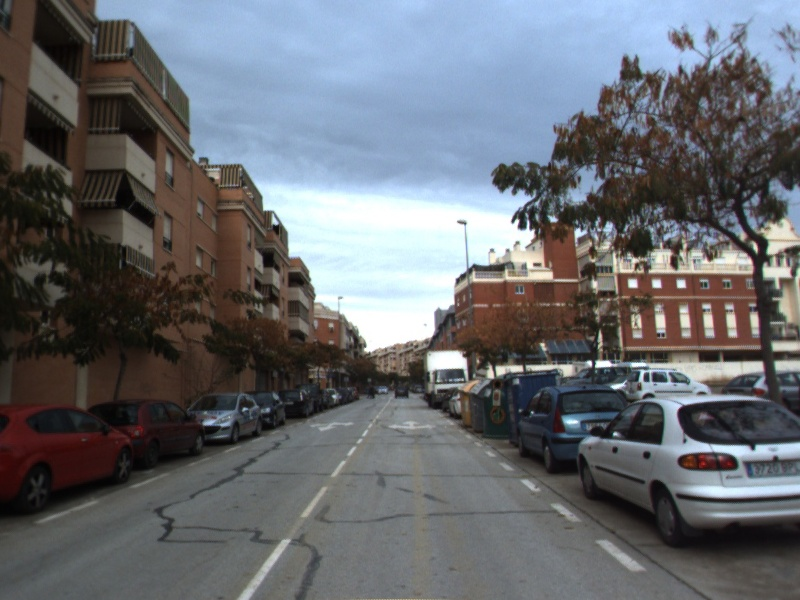STRAIGHT_LEFT_RIGHT: (386, 418, 438, 432)
